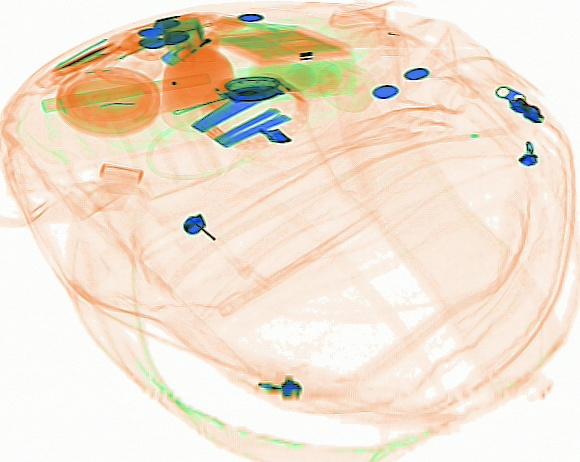lighter: (160, 10, 243, 66)
